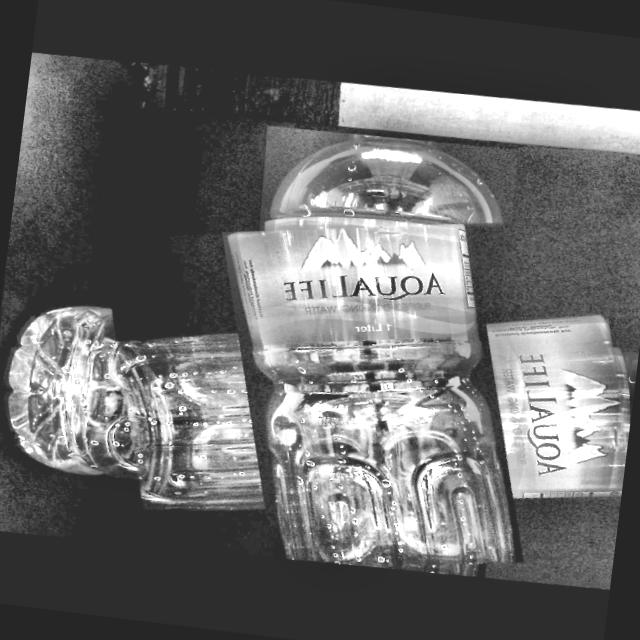Plastic-Bottle: (76, 174, 640, 602)
